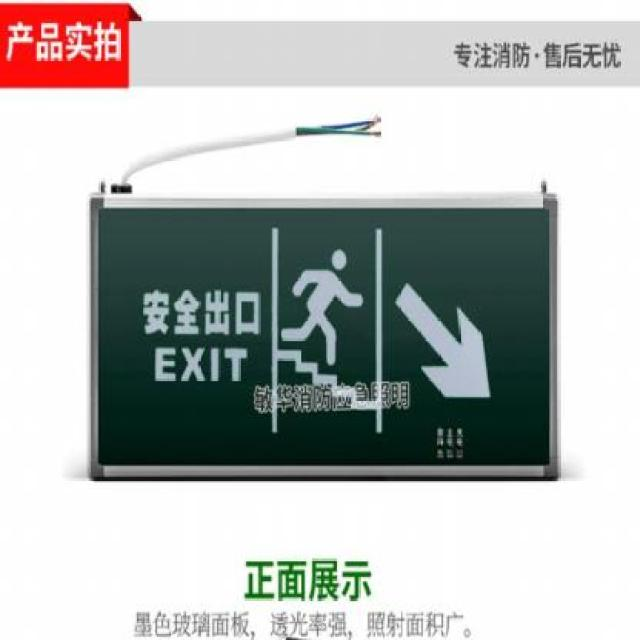exit_sign: (80, 156, 575, 504)
